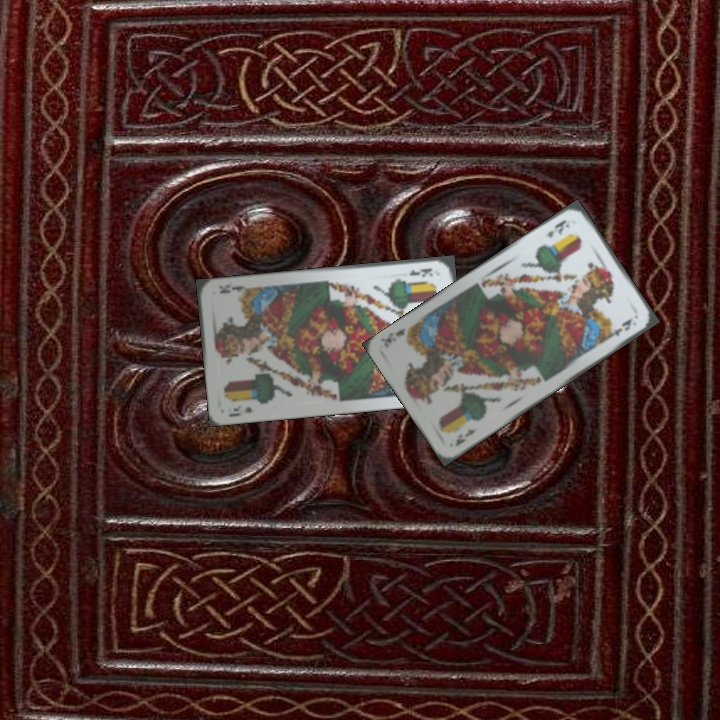EK: (543, 216, 572, 241), (451, 424, 478, 449), (224, 401, 257, 419), (405, 264, 435, 279)
